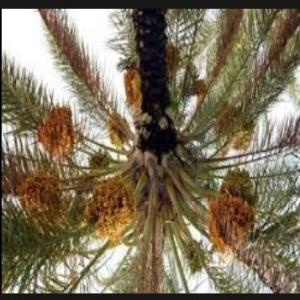palm tree: (2, 8, 299, 292)
